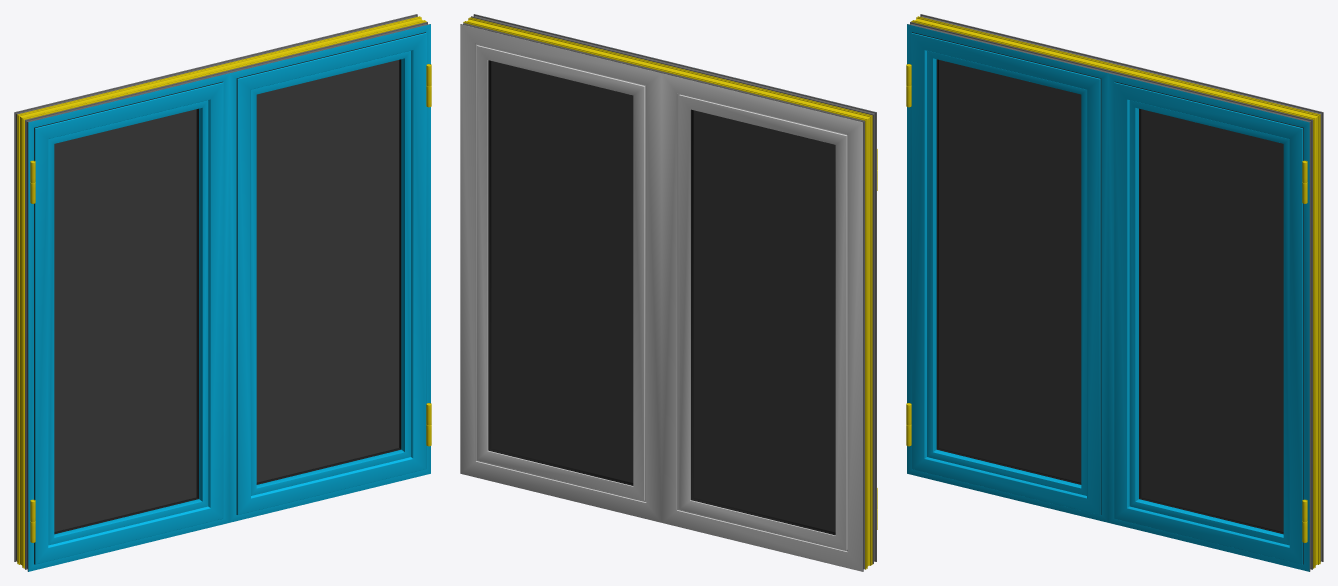
The model's file is 98_2_doors.fbx.
3 renders of one model, left to right at view 1: azimuth 30°, elevation 25°; view 2: azimuth 150°, elevation 25°; view 3: azimuth 330°, elevation 25°, orthographic.
Visible parts, largest first — view 1: SM_Door_Frame_98_L_008, SM_Door_Frame_98_R_008, SM_Door_Frame_98_R_010, SM_Door_Frame_98_L_010, SM_Window_Frame_98_002, SM_Window_Frame_98_004, SM_Door_Frame_98_R_013, SM_Door_Frame_98_L_013; view 2: SM_Door_Frame_98_L_008, SM_Door_Frame_98_R_008, SM_Window_Frame_98_002, SM_Door_Frame_98_R_010, SM_Door_Frame_98_L_010, SM_Window_Frame_98_004, SM_Door_Frame_98_L_013, SM_Door_Frame_98_R_013; view 3: SM_Door_Frame_98_R_008, SM_Door_Frame_98_L_008, SM_Door_Frame_98_L_010, SM_Door_Frame_98_R_010, SM_Window_Frame_98_002, SM_Window_Frame_98_004, SM_Door_Frame_98_L_013, SM_Door_Frame_98_R_013.
Boxes of the visible parts, x1,y1,x2,y2 form: SM_Door_Frame_98_L_008: [54, 109, 196, 531]; SM_Door_Frame_98_R_008: [256, 60, 398, 482]; SM_Door_Frame_98_R_010: [237, 33, 426, 514]; SM_Door_Frame_98_L_010: [34, 82, 223, 564]; SM_Window_Frame_98_002: [14, 14, 430, 571]; SM_Window_Frame_98_004: [17, 16, 426, 568]; SM_Door_Frame_98_R_013: [236, 32, 425, 514]; SM_Door_Frame_98_L_013: [34, 81, 222, 564]; SM_Door_Frame_98_L_008: [693, 110, 835, 532]; SM_Door_Frame_98_R_008: [491, 61, 633, 482]; SM_Window_Frame_98_002: [460, 14, 876, 571]; SM_Door_Frame_98_R_010: [476, 44, 646, 502]; SM_Door_Frame_98_L_010: [678, 93, 847, 551]; SM_Window_Frame_98_004: [463, 17, 872, 569]; SM_Door_Frame_98_L_013: [690, 109, 835, 535]; SM_Door_Frame_98_R_013: [488, 60, 633, 485]; SM_Door_Frame_98_R_008: [1141, 109, 1283, 531]; SM_Door_Frame_98_L_008: [939, 60, 1081, 482]; SM_Door_Frame_98_L_010: [911, 33, 1100, 514]; SM_Door_Frame_98_R_010: [1114, 82, 1303, 564]; SM_Window_Frame_98_002: [907, 14, 1323, 571]; SM_Window_Frame_98_004: [911, 16, 1320, 568]; SM_Door_Frame_98_L_013: [912, 32, 1101, 514]; SM_Door_Frame_98_R_013: [1115, 81, 1303, 564].
Size of the model in its own units: 150 by 160 by 10.77.
